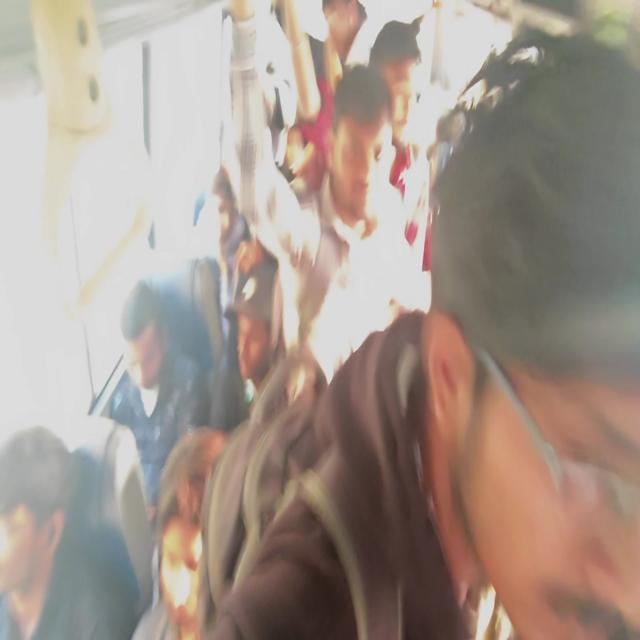person: (438, 129, 640, 640), (156, 440, 230, 636), (0, 408, 63, 594), (114, 279, 185, 381), (331, 83, 384, 216), (238, 265, 282, 395), (382, 29, 418, 147), (207, 169, 243, 234), (320, 0, 356, 48), (284, 127, 309, 177)
